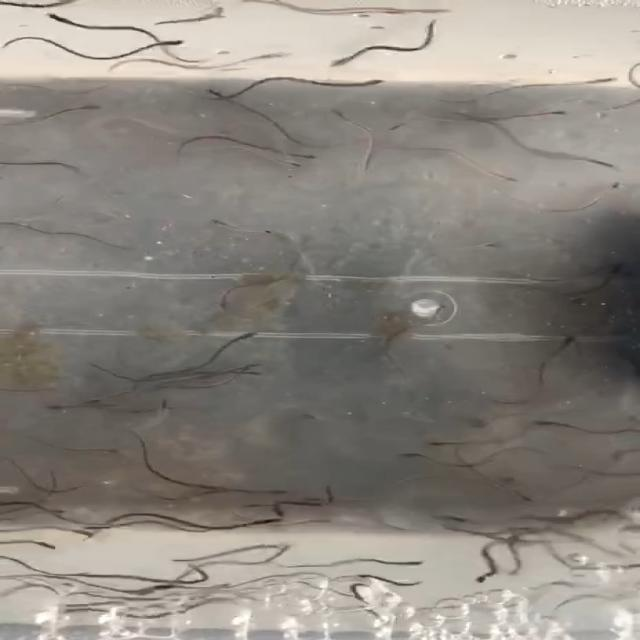active_glass_eel: (203, 213, 244, 234), (336, 75, 383, 92), (469, 563, 506, 584), (423, 434, 468, 451), (228, 327, 266, 347), (325, 53, 368, 70), (53, 522, 97, 538), (41, 399, 86, 414), (18, 536, 62, 551), (202, 85, 236, 104), (214, 290, 243, 312), (386, 117, 428, 132), (558, 331, 588, 352), (235, 515, 287, 527), (156, 395, 183, 418), (535, 106, 573, 122), (396, 450, 438, 464), (468, 238, 502, 255), (527, 414, 568, 428), (577, 76, 622, 88), (502, 487, 538, 502), (91, 442, 127, 457), (146, 38, 184, 52), (412, 5, 452, 18), (85, 393, 122, 407), (385, 556, 428, 568), (250, 50, 296, 61), (39, 11, 72, 25), (596, 157, 622, 174), (258, 486, 298, 497), (493, 168, 524, 182), (330, 108, 354, 126), (290, 149, 320, 163), (440, 514, 478, 525), (226, 369, 266, 379), (605, 177, 627, 194), (63, 103, 100, 113), (273, 156, 302, 167)
